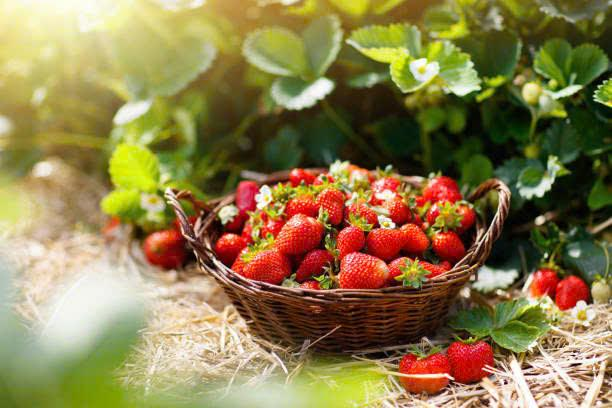strawberry: (412, 328, 495, 395), (328, 190, 423, 235), (227, 227, 300, 269), (429, 166, 466, 248), (227, 175, 275, 226), (340, 237, 383, 287), (291, 209, 338, 253), (280, 186, 336, 221), (381, 231, 421, 275)
